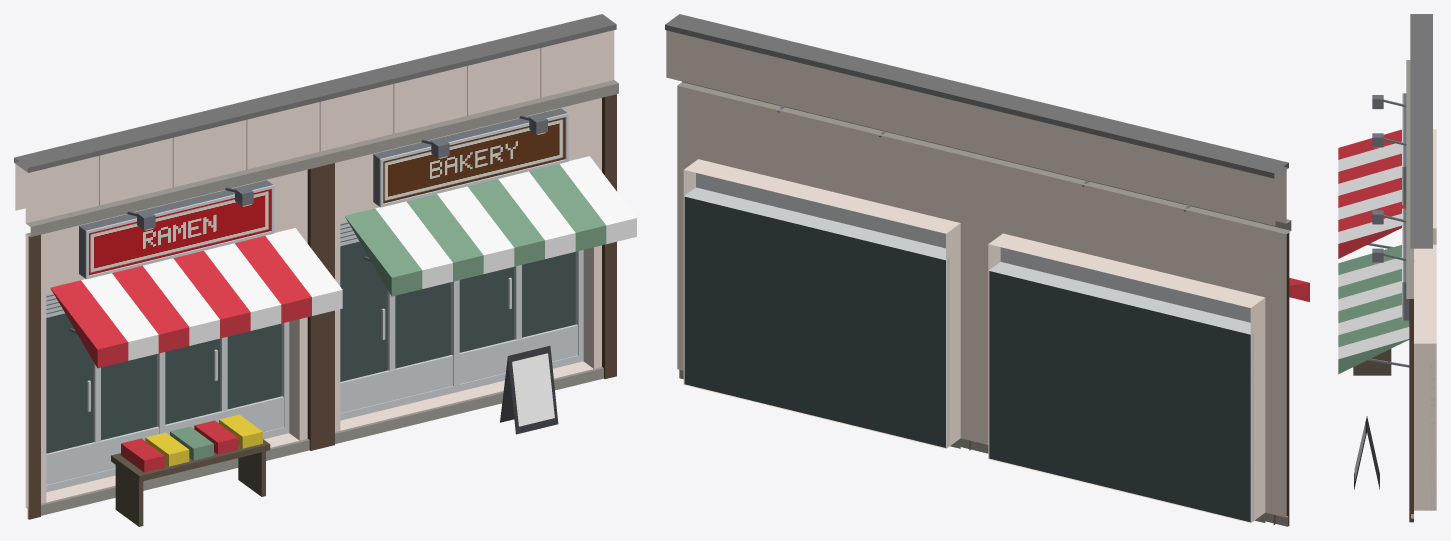
File: base-w1_close.fbx
3 renders of one model, left to right at view 1: azimuth 30°, elevation 25°; view 2: azimuth 150°, elevation 25°; view 3: azimuth 270°, elevation 25°, orthographic. The views are drawn at different scales.
Visible parts, largest first — view 1: a2003/0/base-w1_close; view 2: a2003/0/base-w1_close; view 3: a2003/0/base-w1_close.
Part boxes in pixels (x1,y1,x2,y2): a2003/0/base-w1_close: (14, 14, 636, 526); a2003/0/base-w1_close: (665, 14, 1309, 526); a2003/0/base-w1_close: (1338, 14, 1436, 522).
Size of the model in its own units: 7.2 by 4.11 by 1.3.
